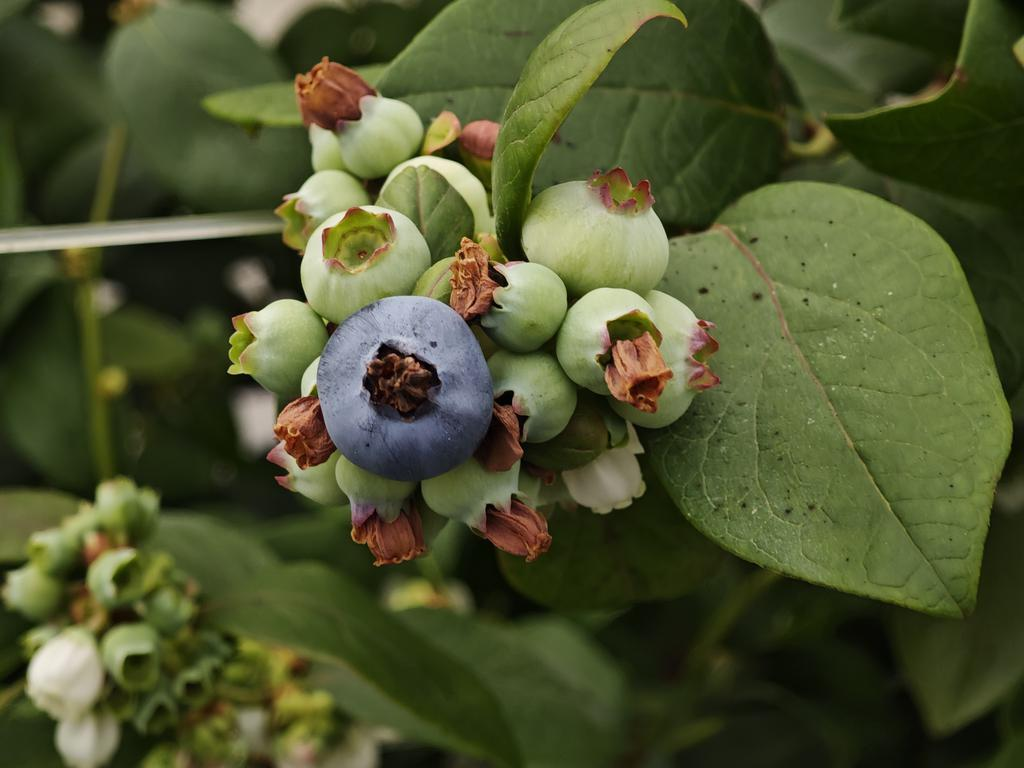RipeBlueBerry: (315, 296, 492, 481)
UnripeBlueBerry: (521, 169, 673, 292)
